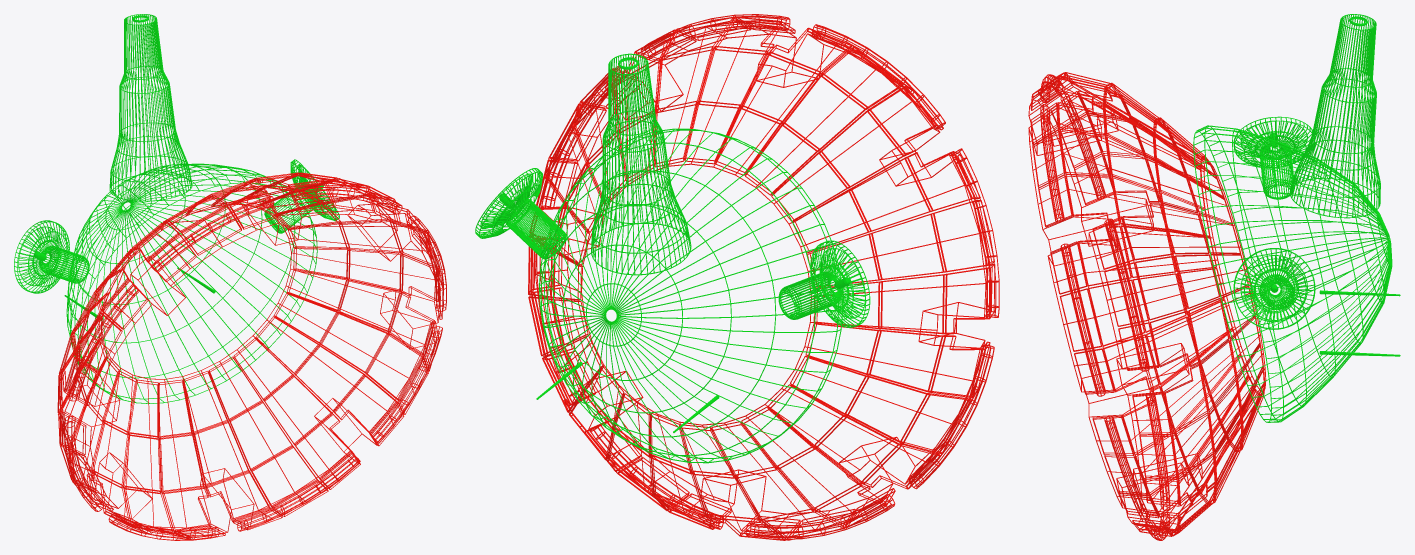
Rendered from anti-missile-pod-highlight-armoured-plasma-base.glb.
3 views of the same model, side by side, from view 1: azimuth 30°, elevation 25°; view 2: azimuth 150°, elevation 25°; view 3: azimuth 270°, elevation 25° (orthographic). The views are drawn at different scales.
Parts seen in each view (by area): view 1: armoured-plasma-base technical wire, chassis technical wire, alloy-plasma-barrel technical wire, twin-tracking-dishes technical wire; view 2: armoured-plasma-base technical wire, chassis technical wire, alloy-plasma-barrel technical wire, twin-tracking-dishes technical wire; view 3: armoured-plasma-base technical wire, chassis technical wire, alloy-plasma-barrel technical wire, twin-tracking-dishes technical wire.
Part boxes in pixels (x1,y1,x2,y2): armoured-plasma-base technical wire: (57, 172, 446, 540); chassis technical wire: (64, 163, 317, 403); alloy-plasma-barrel technical wire: (109, 14, 192, 201); twin-tracking-dishes technical wire: (14, 159, 339, 293); armoured-plasma-base technical wire: (528, 14, 999, 540); chassis technical wire: (536, 128, 842, 463); alloy-plasma-barrel technical wire: (591, 53, 691, 275); twin-tracking-dishes technical wire: (475, 168, 870, 327); armoured-plasma-base technical wire: (1028, 72, 1266, 540); chassis technical wire: (1193, 125, 1400, 422); alloy-plasma-barrel technical wire: (1290, 14, 1380, 218); twin-tracking-dishes technical wire: (1233, 116, 1315, 329).
Size of the model in its own units: 2.01 by 2.31 by 1.56.
